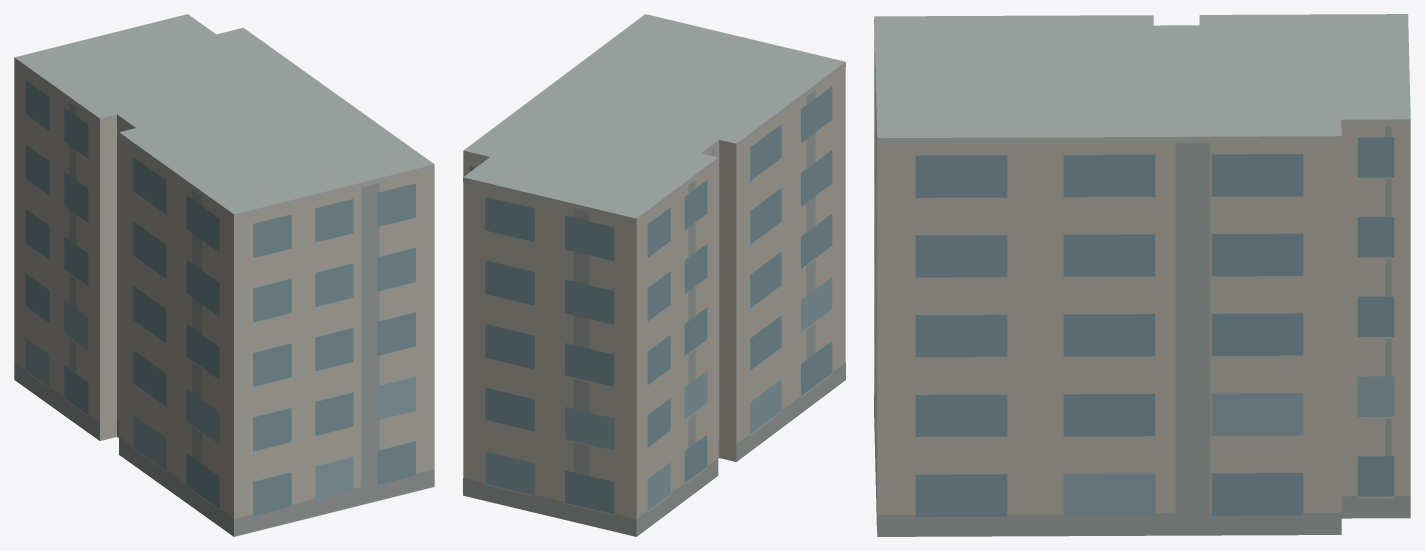
The model's file is survey-upis-32610851.glb.
The picture shows the model from 3 angles, left to right: view 1: azimuth 30°, elevation 25°; view 2: azimuth 150°, elevation 25°; view 3: azimuth 270°, elevation 25°; orthographic projection. The views are drawn at different scales.
Visible parts, largest first — view 1: survey-upis-32610851.tmp; view 2: survey-upis-32610851.tmp; view 3: survey-upis-32610851.tmp.
Part boxes in pixels (left/top/right/bottom): survey-upis-32610851.tmp: left=14, top=14, right=434, bottom=536; survey-upis-32610851.tmp: left=463, top=14, right=845, bottom=536; survey-upis-32610851.tmp: left=874, top=14, right=1410, bottom=536.
Size of the model in its own units: 10.19 by 15.25 by 18.61.
